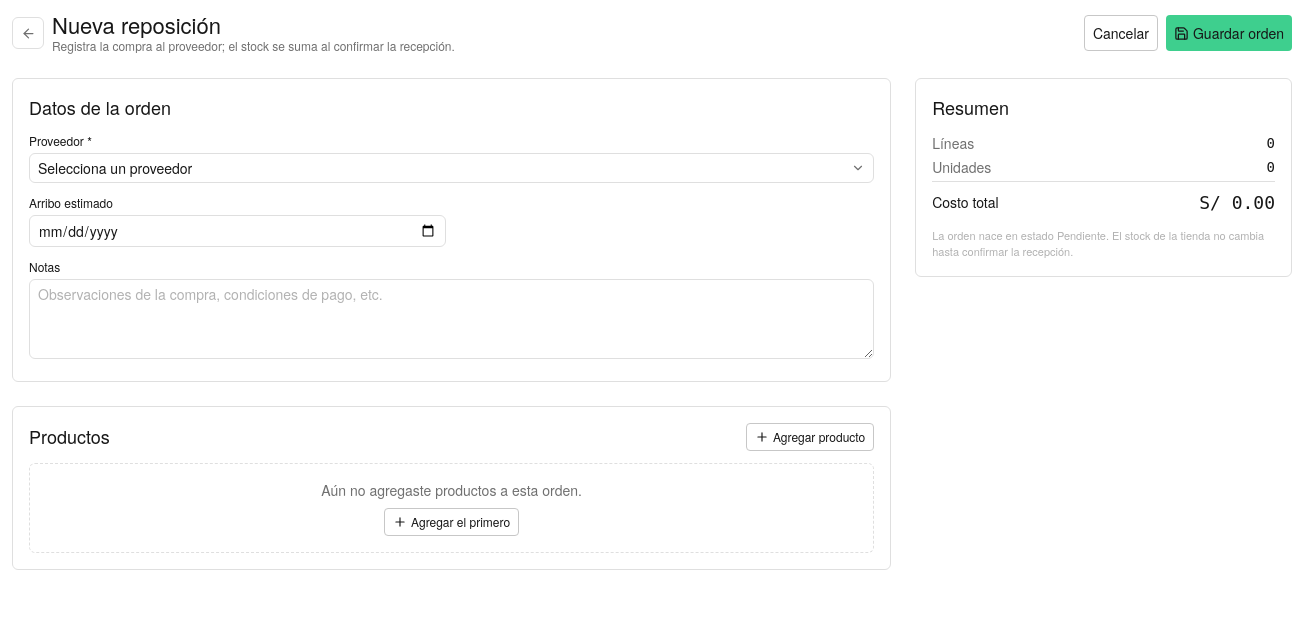
Test: NuevaReposicionPage (HU036 CA02/CA10) › valida que haya proveedor antes de guardar
Expected: the dropdown named "Proveedor de la orden" is shown, [29,153,874,183]
Click the button "Guardar orden": (1229, 33) [1166,15,1292,51]
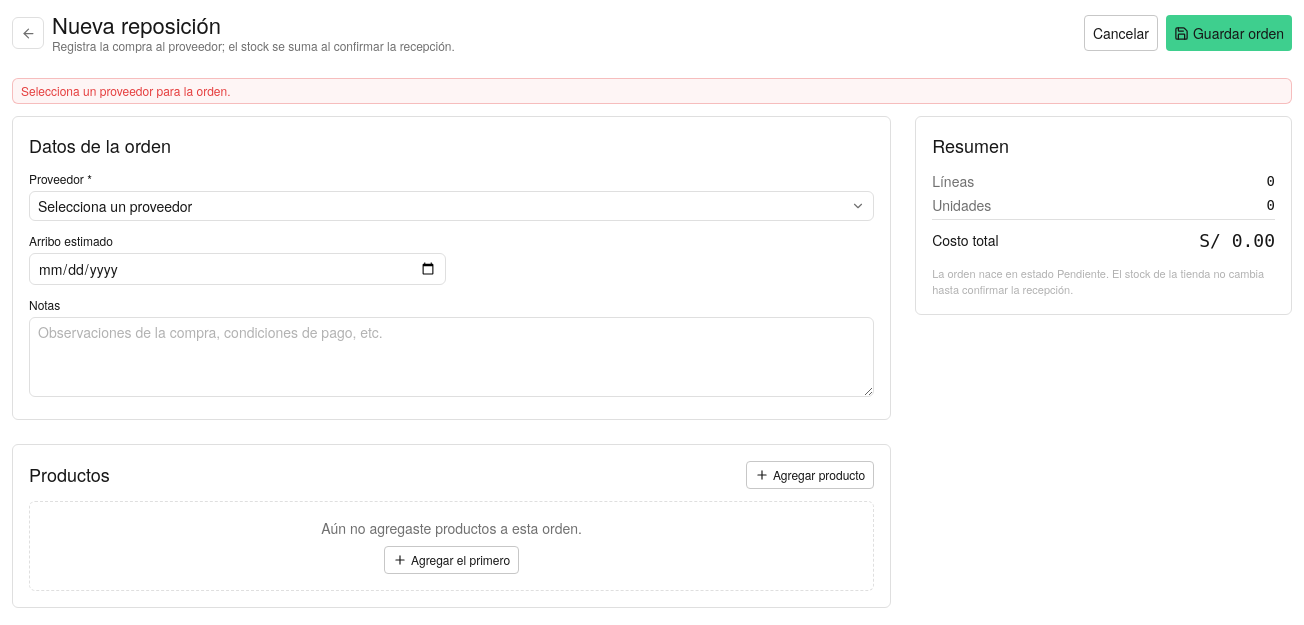
Expected: the message reads "Selecciona un proveedor para la orden.", [21,82,230,99]
